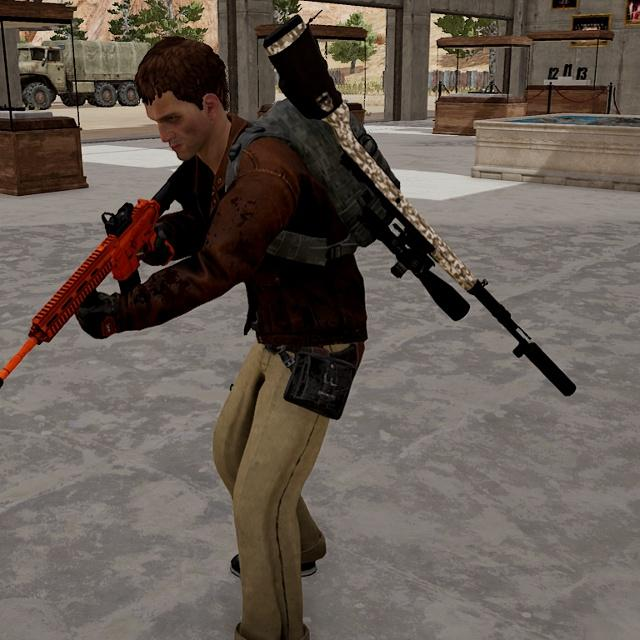head: (131, 34, 235, 159)
people: (110, 27, 379, 640)
